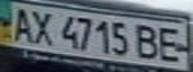1: (90, 17, 112, 54)
4: (54, 12, 78, 50)
5: (109, 19, 133, 57)
7: (75, 15, 93, 52)
A: (6, 4, 36, 43)
B: (133, 21, 163, 61)
E: (154, 25, 187, 64)
X: (27, 7, 57, 47)
